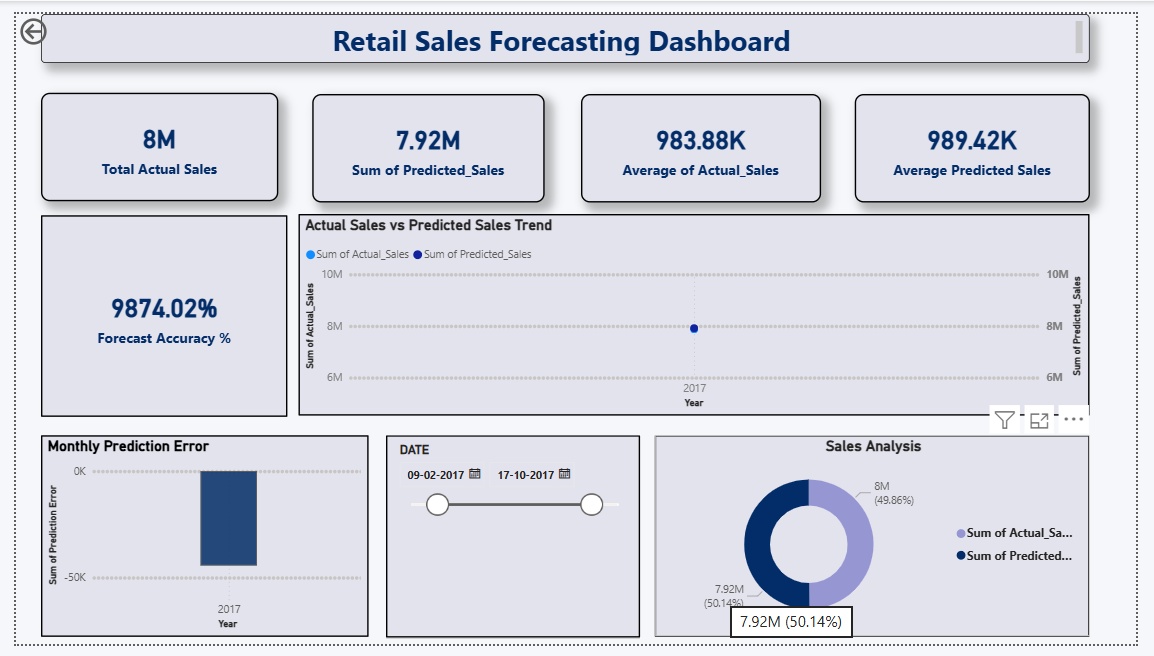

The page's visual inventory and layout, read from the dashboard file:
{"tool":"powerbi","page":{"name":"Sales Forecast Analysis","canvas":[1280,720],"ordinal":0},"visuals":[{"type":"textbox","box":[28.6,0,1198.6,55.7],"z":0},{"type":"card","fields":{"Values":["Sum(sales_forecast_results.Actual_Sales)"]},"box":[28.6,90,271.4,124.3],"z":1000},{"type":"card","fields":{"Values":["Sum(sales_forecast_results.Predicted_Sales)"]},"box":[338.6,91.4,265.7,124.3],"z":2000},{"type":"actionButton","box":[0,0,100,40],"z":3000},{"type":"card","fields":{"Values":["Avg(sales_forecast_results.Actual_Sales)"]},"box":[645.7,91.4,274.3,124.3],"z":4000},{"type":"card","fields":{"Values":["Avg(sales_forecast_results.Predicted_Sales)"]},"box":[958.6,91.4,268.6,124.3],"z":5000},{"type":"lineChart","title":"Actual Sales vs Predicted Sales Trend","fields":{"Category":["sales_forecast_results.date.Variation.Date Hierarchy.Year","sales_forecast_results.date.Variation.Date Hierarchy.Quarter","sales_forecast_results.date.Variation.Date Hierarchy.Month","sales_forecast_results.date.Variation.Date Hierarchy.Day"],"Y":["Sum(sales_forecast_results.Actual_Sales)"],"Y2":["Sum(sales_forecast_results.Predicted_Sales)"]},"box":[322.9,228.6,904.3,230],"z":6000},{"type":"clusteredColumnChart","title":"Monthly Prediction Error","fields":{"Category":["sales_forecast_results.date.Variation.Date Hierarchy.Year","sales_forecast_results.date.Variation.Date Hierarchy.Quarter","sales_forecast_results.date.Variation.Date Hierarchy.Month","sales_forecast_results.date.Variation.Date Hierarchy.Day"],"Y":["Sum(sales_forecast_results.Prediction Error)"]},"box":[28.6,481.4,374.3,230],"z":7000},{"type":"card","fields":{"Values":["sales_forecast_results.Forecast Accuracy %"]},"box":[28.6,230,281.4,230],"z":8000},{"type":"slicer","fields":{"Values":["sales_forecast_results.date"]},"box":[422.9,481.4,290,231.4],"z":9000},{"type":"donutChart","title":"Sales Analysis","fields":{"Y":["Sum(sales_forecast_results.Actual_Sales)","Sum(sales_forecast_results.Predicted_Sales)"]},"box":[730,481.4,497.1,230],"z":9001}]}

Visuals, with their boxes in screenshot pixels (x1, y1, x2, y2), scaled from the page's 1280x720 canvas onto the 1154x656 screenshot:
textbox: <region>26, 0, 1106, 51</region>
card - Sum(sales_forecast_results.Actual_Sales): <region>26, 82, 270, 195</region>
card - Sum(sales_forecast_results.Predicted_Sales): <region>305, 83, 545, 197</region>
actionButton: <region>0, 0, 90, 36</region>
card - Avg(sales_forecast_results.Actual_Sales): <region>582, 83, 829, 197</region>
card - Avg(sales_forecast_results.Predicted_Sales): <region>864, 83, 1106, 197</region>
"Actual Sales vs Predicted Sales Trend" lineChart: <region>291, 208, 1106, 418</region>
"Monthly Prediction Error" clusteredColumnChart: <region>26, 439, 363, 648</region>
card - sales_forecast_results.Forecast Accuracy %: <region>26, 210, 279, 419</region>
slicer - sales_forecast_results.date: <region>381, 439, 643, 649</region>
"Sales Analysis" donutChart: <region>658, 439, 1106, 648</region>
